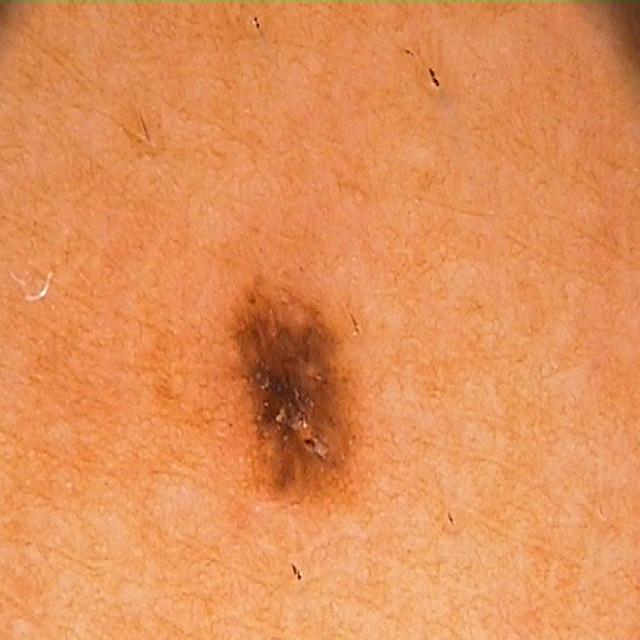Melanoma: (210, 258, 369, 507)
